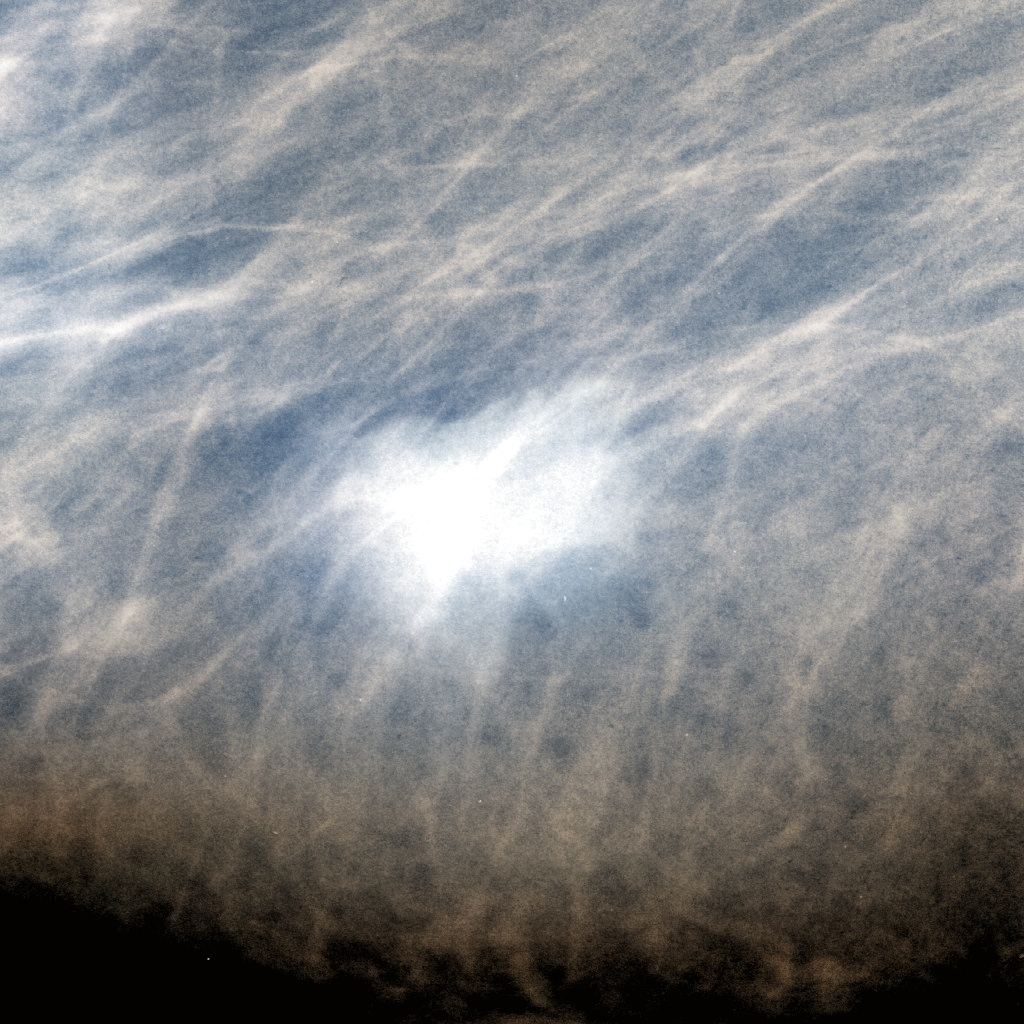tumor: (344, 354, 680, 670)
